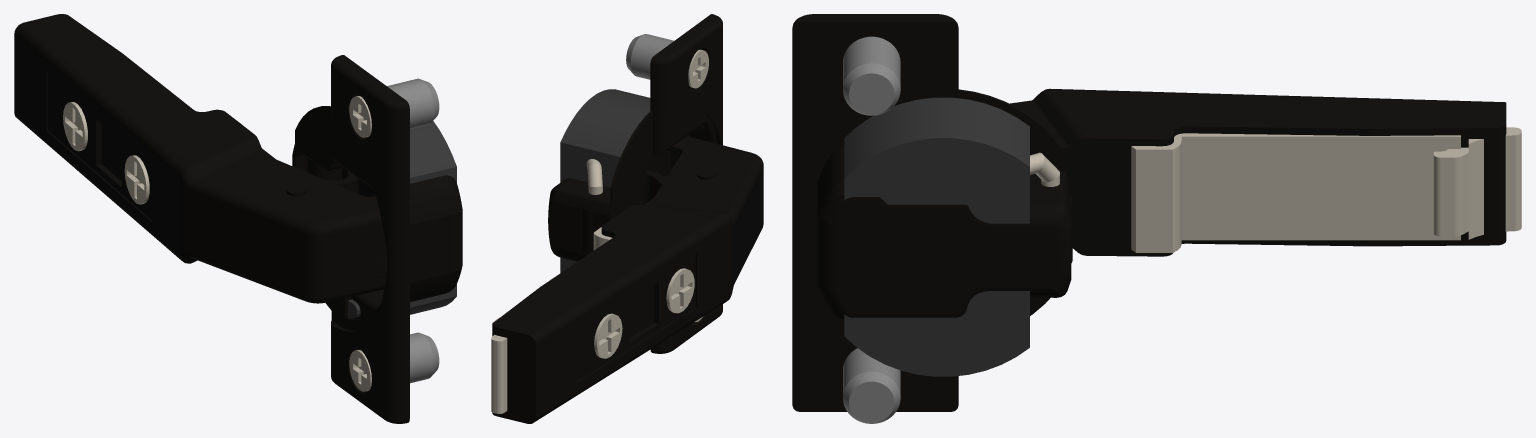
3 views of the same model, side by side, from view 1: azimuth 30°, elevation 25°; view 2: azimuth 150°, elevation 25°; view 3: azimuth 270°, elevation 25° (orthographic). The views are drawn at different scales.
Visible parts, largest first — view 1: bau0016451269-1, bau0015166285-1, bau0059100308-2, bau0059100308-1, bau0015167363-1; view 2: bau0016451269-1, bau0015166285-1, bau0059100308-2, bau0019426112-2, bau0015167363-1, bau0015167707-1; view 3: bau0015166285-1, bau0019426112-2, bau0016451269-1, bau0059100308-2, bau0059100308-1.
Boxes of the visible parts, box(x1,y1,x2,y2) form: bau0016451269-1: box(14, 14, 387, 303); bau0015166285-1: box(292, 55, 462, 423); bau0059100308-2: box(349, 78, 439, 137); bau0059100308-1: box(349, 332, 439, 391); bau0015167363-1: box(307, 156, 358, 194); bau0016451269-1: box(492, 135, 763, 423); bau0015166285-1: box(548, 14, 722, 353); bau0059100308-2: box(626, 34, 708, 88); bau0019426112-2: box(491, 227, 611, 413); bau0015167363-1: box(583, 170, 667, 255); bau0015167707-1: box(646, 151, 671, 176); bau0015166285-1: box(792, 14, 1071, 411); bau0019426112-2: box(1131, 127, 1521, 252); bau0016451269-1: box(1010, 88, 1506, 256); bau0059100308-2: box(843, 36, 900, 115); bau0059100308-1: box(843, 348, 900, 423).
Size of the model in its own units: 35.78 by 57 by 96.5.
